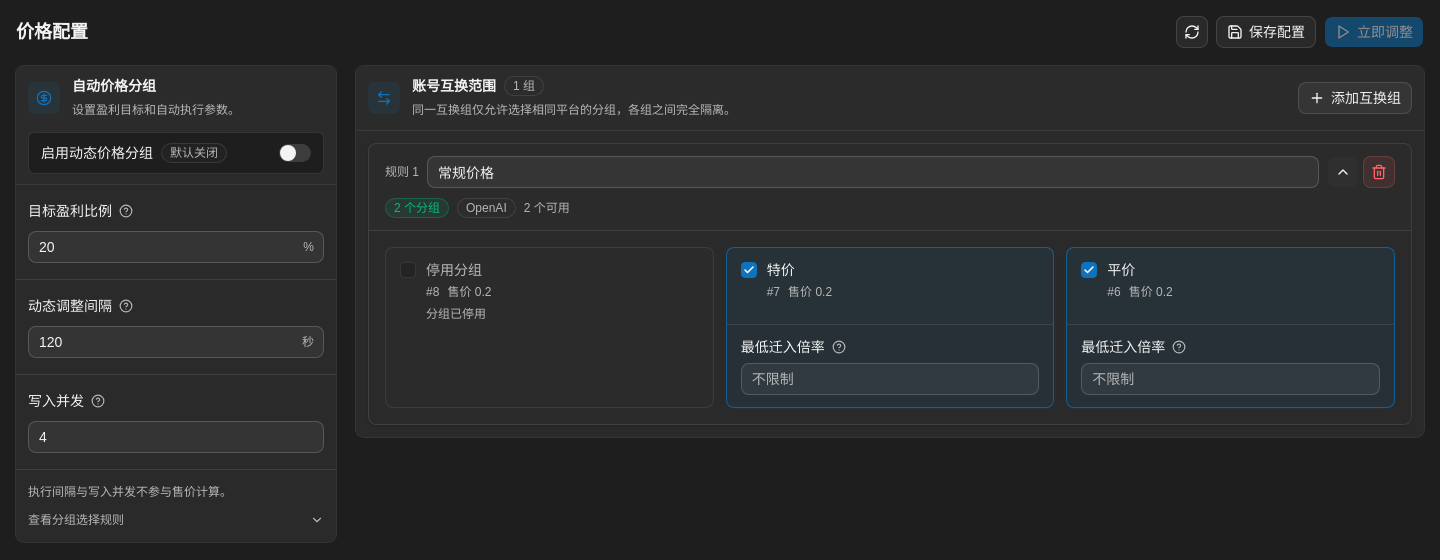
Test: 价格配置互换范围布局 › 键盘折叠并重新展开规则后保留最低倍率及选中状态
In the field named "分组 平价 最低迁入倍率": (1231, 379) [1081,363,1380,395], type "0.15"
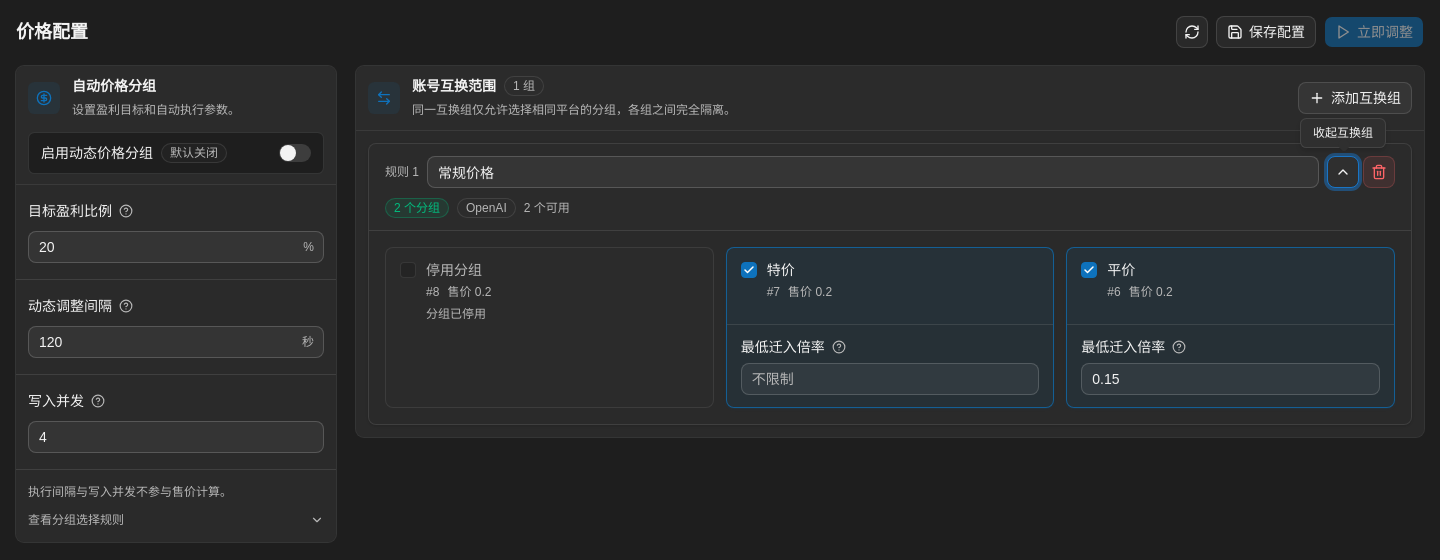
Press Enter
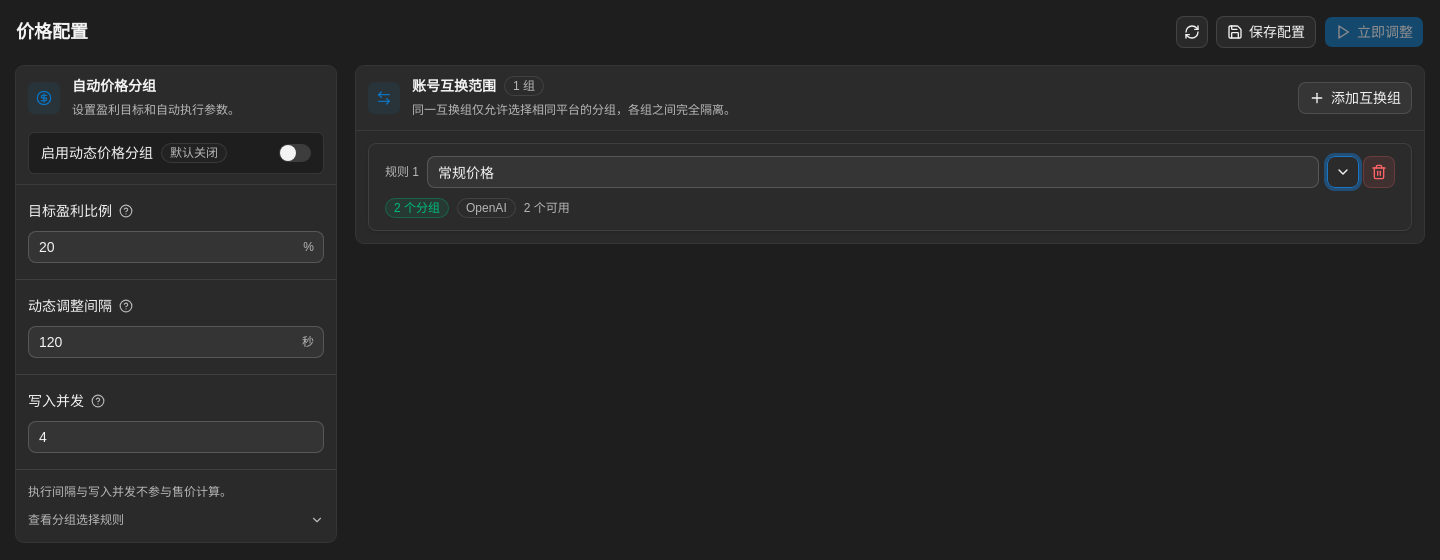
Expected: the button named "展开互换组 1" is collapsed, [1327,156,1359,188]
Press Enter
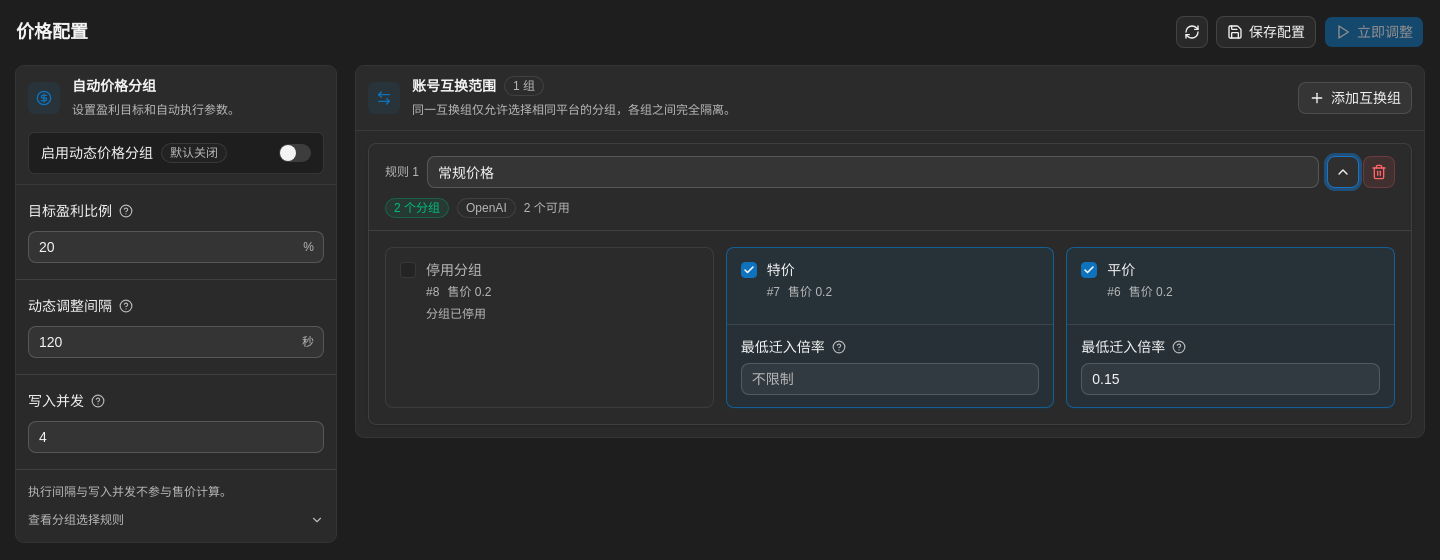
Expected: the button named "收起互换组 1" is expanded, [1327,156,1359,188]
Expected: the checkbox named "互换组 1 分组 平价" is checked, [1081,262,1097,278]
